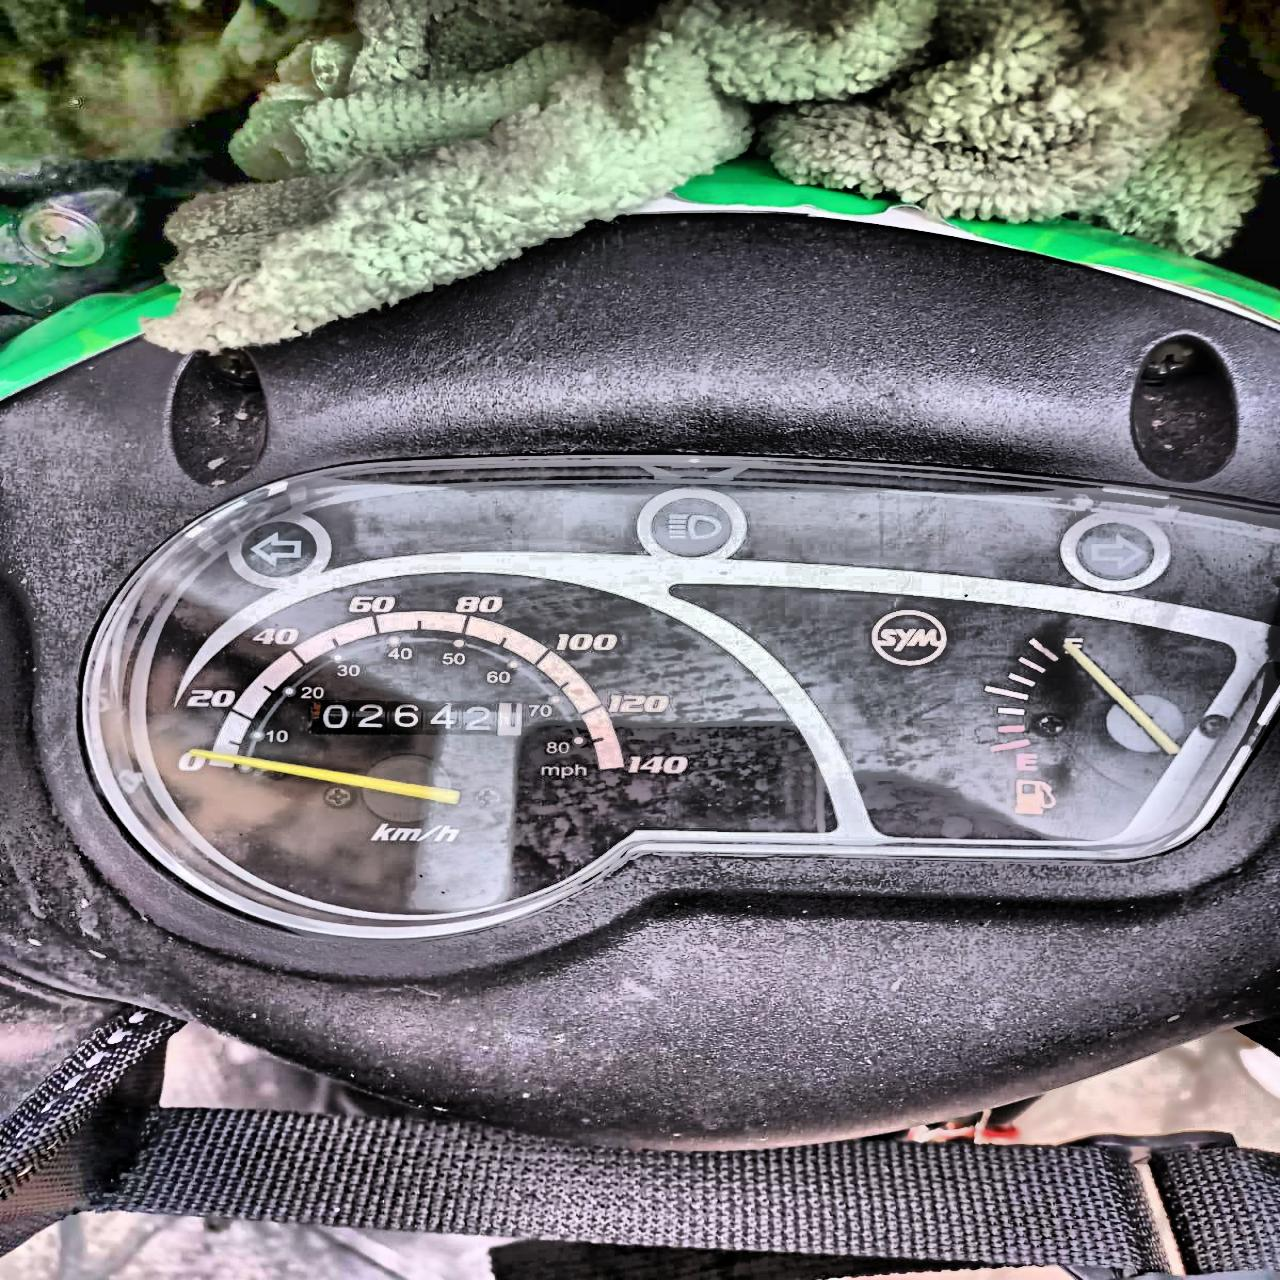0: (320, 701, 348, 730)
1: (502, 701, 522, 733)
2: (463, 702, 492, 734), (353, 701, 384, 729)
4: (428, 703, 455, 730)
6: (392, 701, 421, 727)
odometer: (305, 699, 526, 742)
